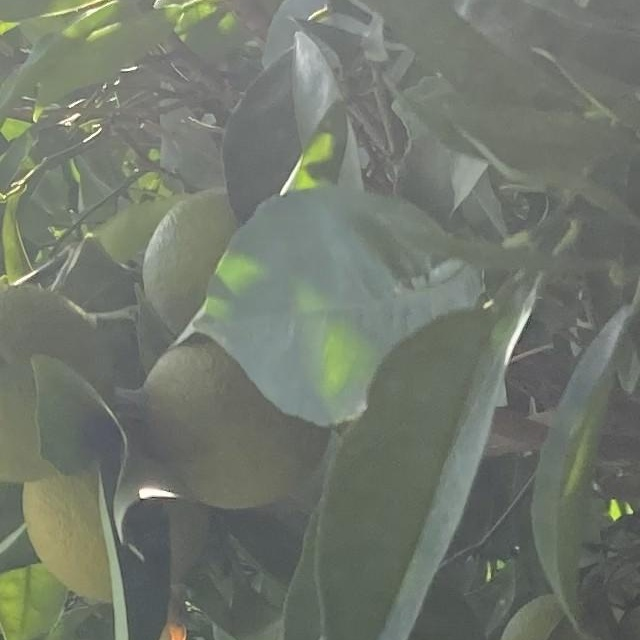orange: (20, 398, 214, 606), (149, 331, 323, 515), (0, 273, 112, 485), (138, 183, 286, 339)
